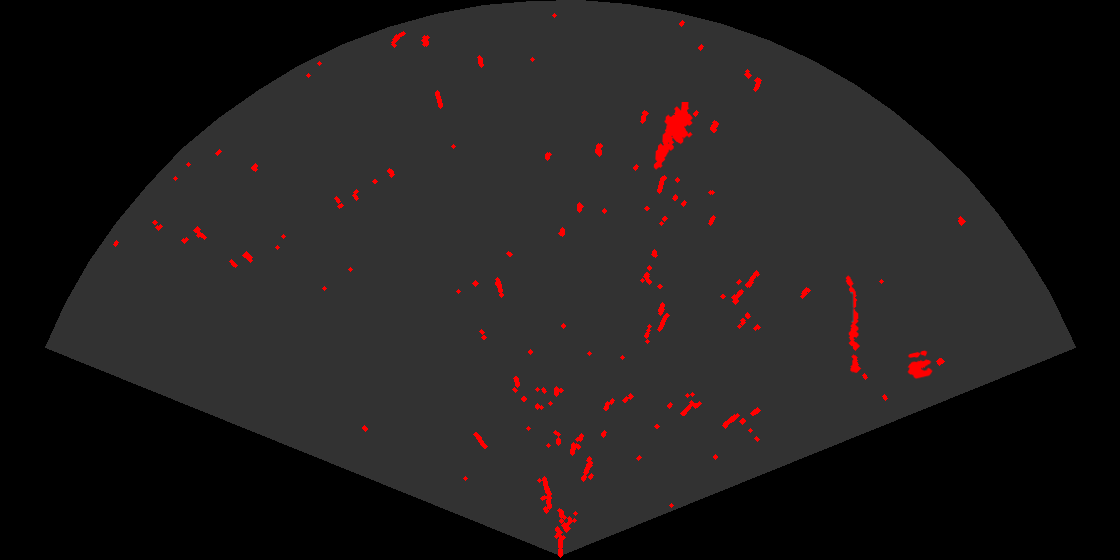ball: (906, 349, 934, 381)
chain: (844, 274, 863, 373)
frogman: (652, 102, 694, 171)
